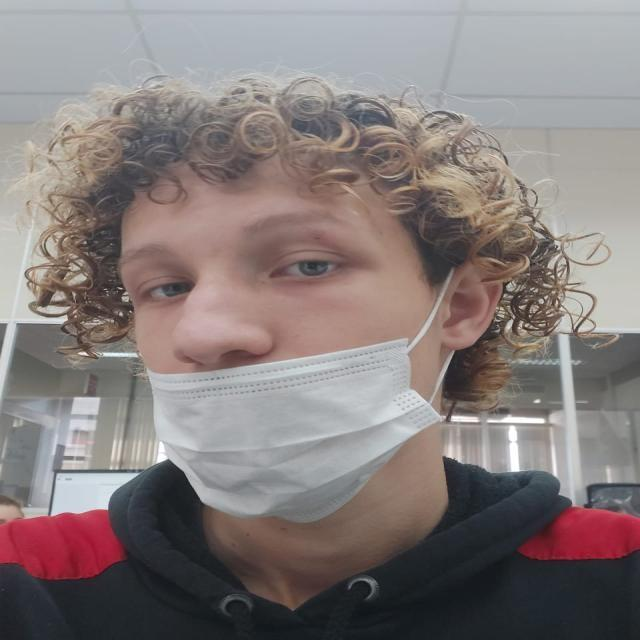hairnet: (122, 189, 446, 491)
